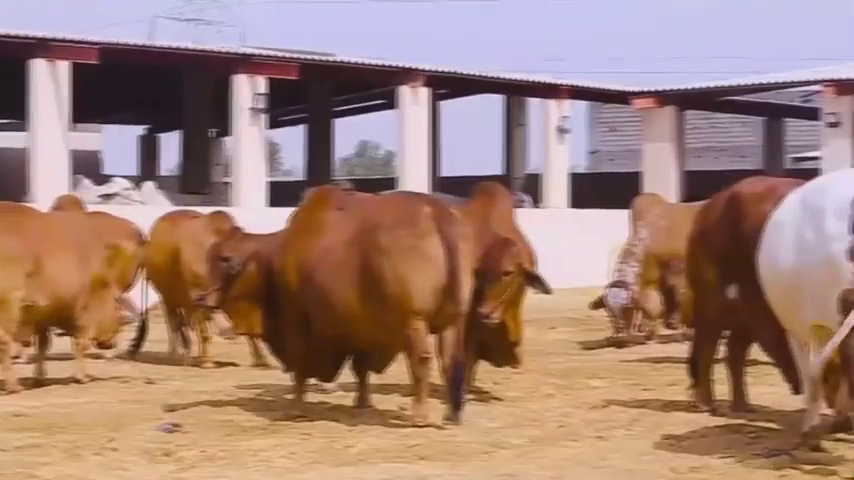bo: (182, 168, 471, 427), (676, 156, 854, 448), (402, 156, 557, 385), (5, 190, 146, 397), (133, 177, 275, 381), (583, 181, 711, 352)
